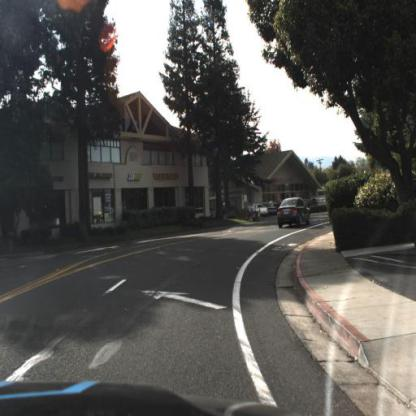car: (272, 195, 312, 230)
pedestrian: (251, 201, 257, 229)
